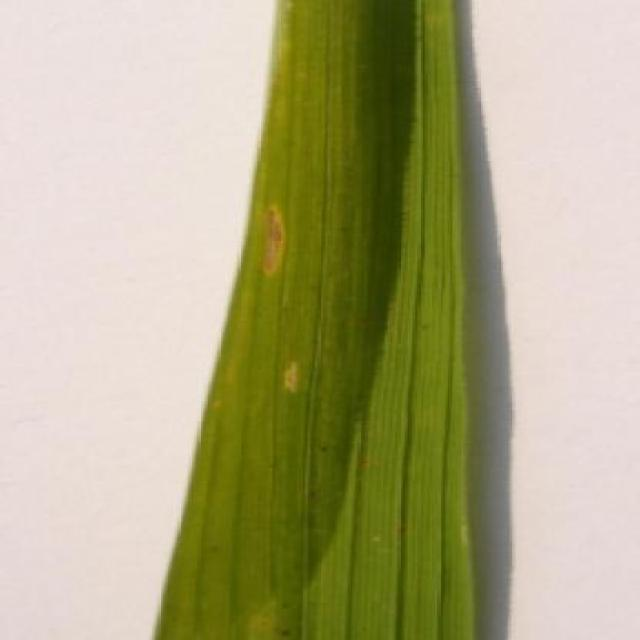Brown_Spot: (145, 0, 480, 640)
